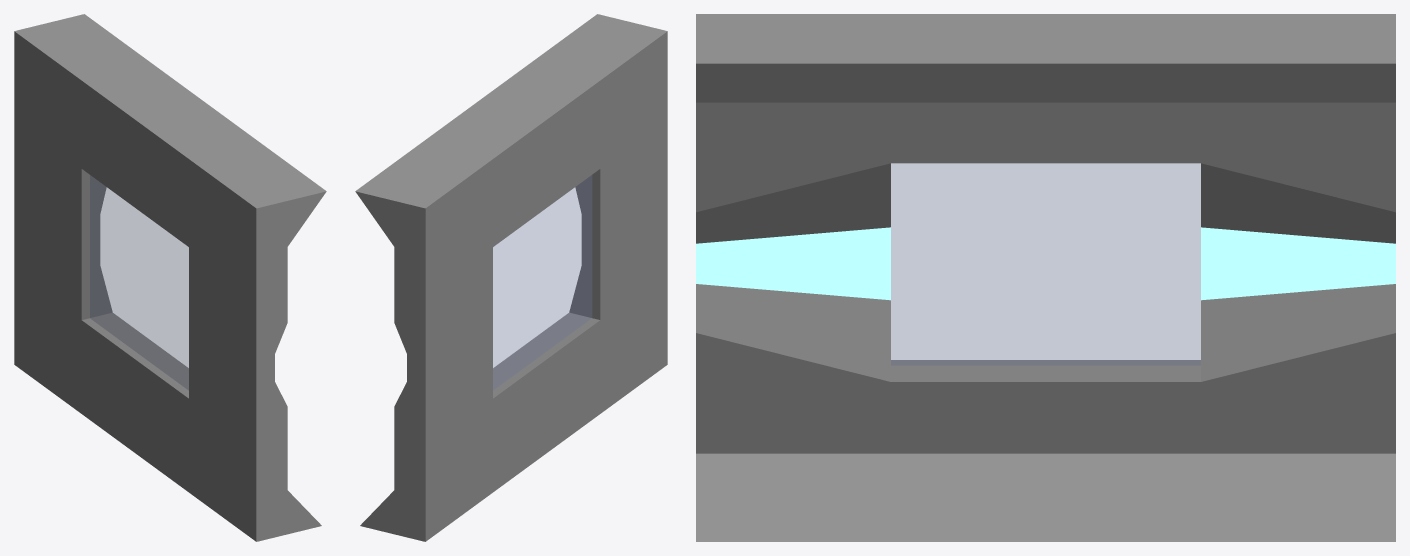
Rendered from SciFiWallPanelWindow_1.fbx.
3 views of the same model, side by side, from view 1: azimuth 30°, elevation 25°; view 2: azimuth 150°, elevation 25°; view 3: azimuth 270°, elevation 25° (orthographic). The views are drawn at different scales.
Parts seen in each view (by area): view 1: SciFiWallPanel; view 2: SciFiWallPanel; view 3: SciFiWallPanel.
Boxes of the visible parts, bbox=[...] form: SciFiWallPanel: bbox=[14, 14, 326, 541]; SciFiWallPanel: bbox=[355, 14, 667, 541]; SciFiWallPanel: bbox=[696, 14, 1395, 541].
Bounding box in the file's own units: 121 × 550 × 725.
